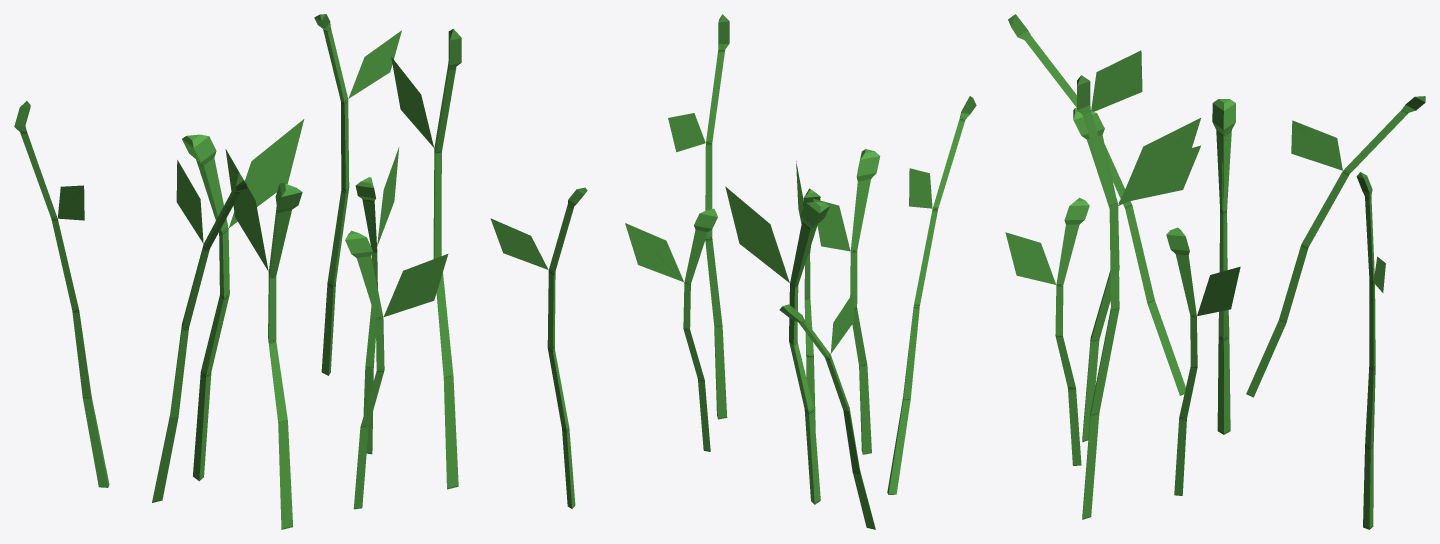
File: Poppy_1.fbx
3 views of the same model, side by side, from view 1: azimuth 30°, elevation 25°; view 2: azimuth 150°, elevation 25°; view 3: azimuth 270°, elevation 25° (orthographic). The views are drawn at different scales.
Visible parts, largest first — view 1: Poppy_1; view 2: Poppy_1; view 3: Poppy_1.
Boxes of the visible parts, left/top/right/bottom form: Poppy_1: left=14, top=14, right=461, bottom=529; Poppy_1: left=490, top=14, right=976, bottom=529; Poppy_1: left=1005, top=14, right=1425, bottom=529.
Bounding box in the file's own units: 0.8782 × 0.8936 × 1.04.
